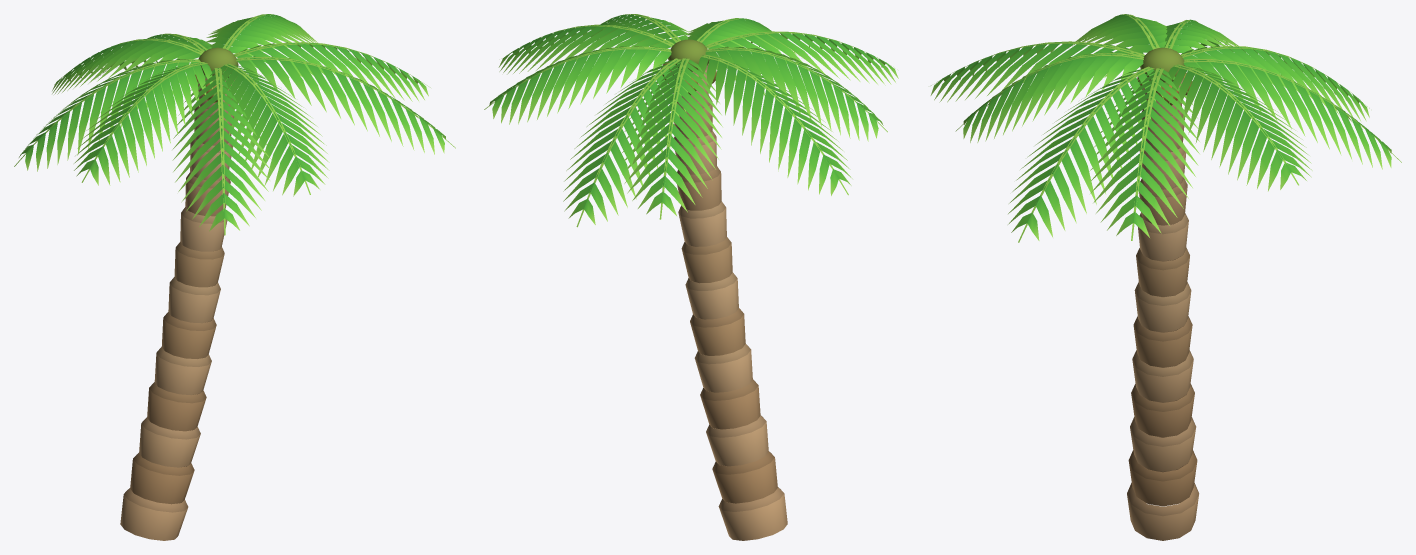
File: palm_a.glb
3 renders of one model, left to right at view 1: azimuth 30°, elevation 25°; view 2: azimuth 150°, elevation 25°; view 3: azimuth 270°, elevation 25°, orthographic. The views are drawn at different scales.
Visible parts, largest first — view 1: Palm_A; view 2: Palm_A; view 3: Palm_A.
Part boxes in pixels (x1,y1,x2,y2): Palm_A: (14,14,455,540); Palm_A: (484,14,898,540); Palm_A: (930,14,1401,540).
Bounding box in the file's own units: 5.02 × 5.92 × 4.95.
